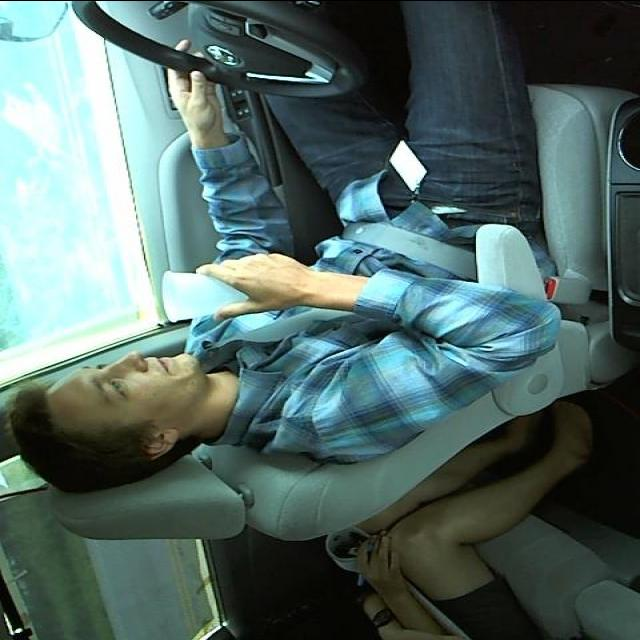drinking: (150, 265, 258, 325)
